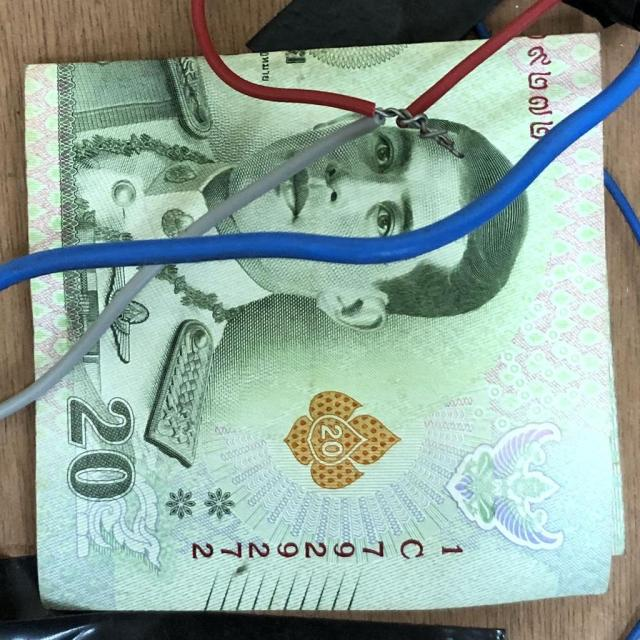THAI20: (36, 126, 624, 610), (206, 34, 600, 239), (26, 58, 359, 252), (222, 41, 481, 107)
